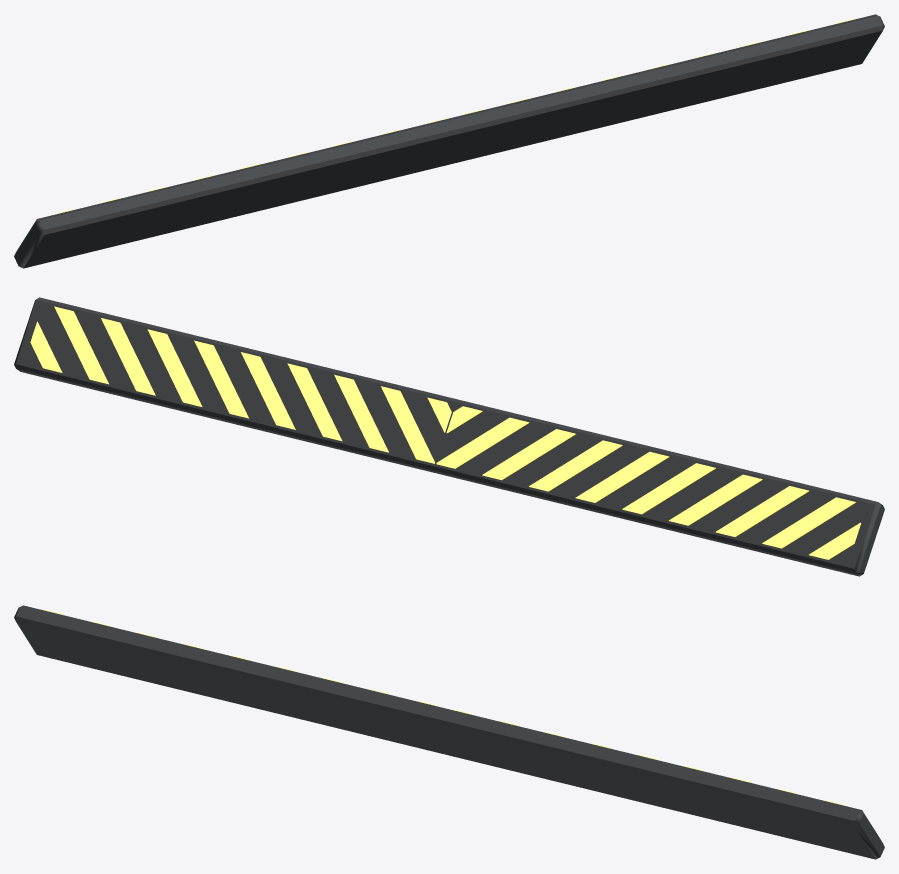
The model's file is plough_plate.glb.
3 renders of one model, top to bottom at view 1: azimuth 30°, elevation 25°; view 2: azimuth 150°, elevation 25°; view 3: azimuth 330°, elevation 25°, orthographic.
Visible parts, largest first — view 1: plough_plate; view 2: plough_plate; view 3: plough_plate.
Part boxes in pixels (x1,y1,x2,y2): plough_plate: (14,14,884,268); plough_plate: (14,297,884,576); plough_plate: (14,605,884,859).
Size of the model in its own units: 3.08 by 0.2113 by 0.1803.
